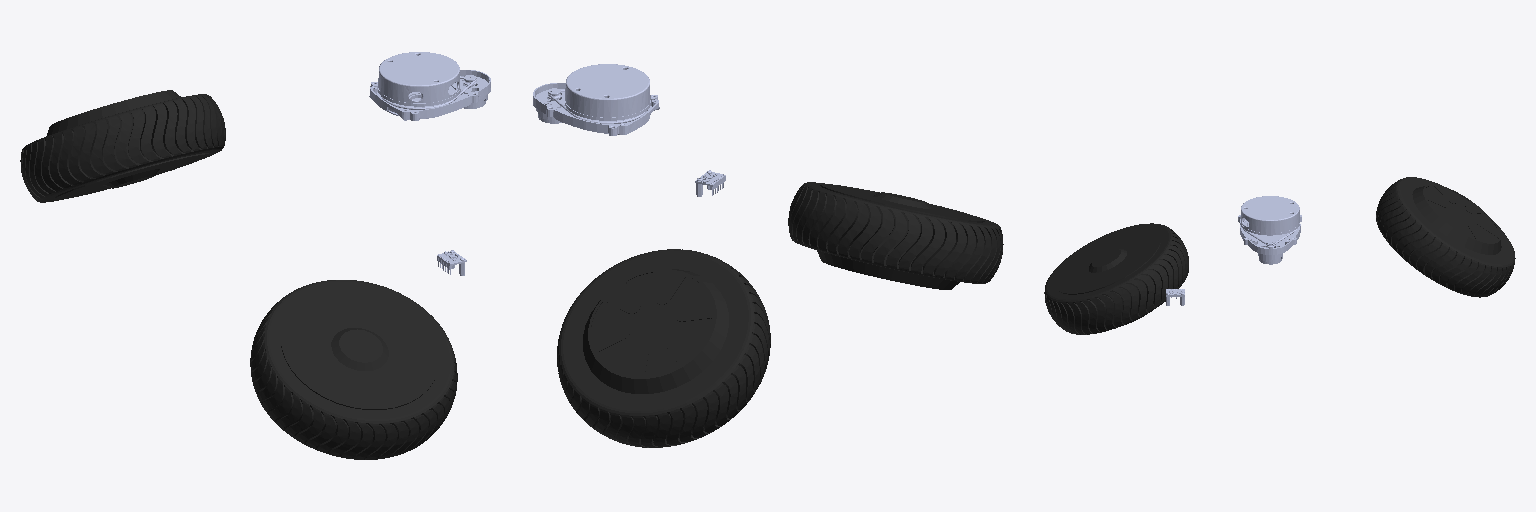
The robot description file, URDF, robot "urdf3":
<?xml version="1.0" encoding="utf-8"?>
<!-- This URDF was automatically created by SolidWorks to URDF Exporter! Originally created by [author] ([email redacted]) 
     Commit Version: 1.6.0-4-g7f85cfe  Build Version: 1.6.7995.38578
     For more information, please see http://wiki.ros.org/sw_urdf_exporter -->
<robot
  name="urdf3">
  <link
    name="base_link">
    <inertial>
      <origin
        xyz="0.0442825897090094 -0.0071218303020959 0.0468904111249884"
        rpy="0 0 0" />
      <mass
        value="7.24083590160844" />
      <inertia
        ixx="0.0234333185987911"
        ixy="-0.000228866626835989"
        ixz="0.000468094989719994"
        iyy="0.0514787313028361"
        iyz="-5.4523230025468E-07"
        izz="0.0674713703809717" />
    </inertial>
    <visual>
      <origin
        xyz="0 0 0"
        rpy="0 0 0" />
      <geometry>
        <mesh
          filename="package://urdf3/meshes/base_link.STL" />
      </geometry>
      <material
        name="">
        <color
          rgba="0.752941176470588 0.752941176470588 0.752941176470588 1" />
      </material>
    </visual>
    <collision>
      <origin
        xyz="0 0 0"
        rpy="0 0 0" />
      <geometry>
        <mesh
          filename="package://urdf3/meshes/base_link.STL" />
      </geometry>
    </collision>
  </link>
  <link
    name="lidar_link">
    <inertial>
      <origin
        xyz="0.0148383171367844 0.000447683430769286 -0.0211536208200519"
        rpy="0 0 0" />
      <mass
        value="0.0312409127404861" />
      <inertia
        ixx="8.88026370808522E-06"
        ixy="-1.77664494264139E-07"
        ixz="1.13027679908938E-07"
        iyy="1.44910018203743E-05"
        iyz="3.46076114959359E-08"
        izz="2.25289099518335E-05" />
    </inertial>
    <visual>
      <origin
        xyz="0 0 0"
        rpy="0 0 0" />
      <geometry>
        <mesh
          filename="package://urdf3/meshes/lidar_link.STL" />
      </geometry>
      <material
        name="">
        <color
          rgba="0.792156862745098 0.819607843137255 0.933333333333333 1" />
      </material>
    </visual>
    <collision>
      <origin
        xyz="0 0 0"
        rpy="0 0 0" />
      <geometry>
        <mesh
          filename="package://urdf3/meshes/lidar_link.STL" />
      </geometry>
    </collision>
  </link>
  <joint
    name="lidar"
    type="fixed">
    <origin
      xyz="0.155727946311183 0.00119138551322162 0.14609999999979"
      rpy="0 0 0" />
    <parent
      link="base_link" />
    <child
      link="lidar_link" />
    <axis
      xyz="0 0 0" />
  </joint>
  <link
    name="imu_link">
    <inertial>
      <origin
        xyz="-0.000128980115823185 -0.000191495598159785 -0.00384070508905809"
        rpy="0 0 0" />
      <mass
        value="0.000999898118986824" />
      <inertia
        ixx="2.50447716935414E-08"
        ixy="1.03965056246914E-10"
        ixz="-2.68560481614487E-14"
        iyy="1.24513535508529E-08"
        iyz="-1.18565423382753E-14"
        izz="3.06376353115898E-08" />
    </inertial>
    <visual>
      <origin
        xyz="0 0 0"
        rpy="0 0 0" />
      <geometry>
        <mesh
          filename="package://urdf3/meshes/imu_link.STL" />
      </geometry>
      <material
        name="">
        <color
          rgba="0.792156862745098 0.819607843137255 0.933333333333333 1" />
      </material>
    </visual>
    <collision>
      <origin
        xyz="0 0 0"
        rpy="0 0 0" />
      <geometry>
        <mesh
          filename="package://urdf3/meshes/imu_link.STL" />
      </geometry>
    </collision>
  </link>
  <joint
    name="imu"
    type="fixed">
    <origin
      xyz="0.126490153720713 -0.100459462377462 0.0330199999990641"
      rpy="0 0 0" />
    <parent
      link="base_link" />
    <child
      link="imu_link" />
    <axis
      xyz="0 0 0" />
  </joint>
  <link
    name="right_wheel_link">
    <inertial>
      <origin
        xyz="0.000243587829777958 -0.0295000990455644 8.01157473695469E-11"
        rpy="1 0 0" />
      <mass
        value="0.981706650902444" />
      <inertia
        ixx="0.0016529958590619"
        ixy="-1.01208406970329E-05"
        ixz="1.94991242741294E-09"
        iyy="0.00287861061054269"
        iyz="1.72664473467692E-11"
        izz="0.00165290525855946" />
    </inertial>
    <visual>
      <origin
        xyz="0 0 0"
        rpy="1 0 0" />
      <geometry>
        <mesh
          filename="package://urdf3/meshes/right_wheel_link.STL" />
      </geometry>
      <material
        name="">
        <color
          rgba="0.2 0.2 0.2 1" />
      </material>
    </visual>
    <collision>
      <origin
        xyz="0 0 0"
        rpy="1 0 0" />
      <geometry>
        <mesh
          filename="package://urdf3/meshes/right_wheel_link.STL" />
      </geometry>
    </collision>
  </link>
  <joint
    name="right_wheel"
    type="continuous">
    <origin
      xyz="0.00163679036643538 -0.174956642830885 0.0149999999997888"
      rpy="1 0 0" />
    <parent
      link="base_link" />
    <child
      link="right_wheel_link" />
    <axis
      xyz="-0.00825691107326283 0.999965911128739 0" />
  </joint>
  <link
    name="left_wheel_link">
    <inertial>
      <origin
        xyz="-0.000243587829778402 0.0295000990455643 8.01156918583956E-11"
        rpy="1 0 0" />
      <mass
        value="0.981706650902437" />
      <inertia
        ixx="0.0016529958291508"
        ixy="-1.01208409419746E-05"
        ixz="-2.00288369752032E-09"
        iyy="0.00287861061054065"
        iyz="-1.77037226319724E-11"
        izz="0.00165290528847253" />
    </inertial>
    <visual>
      <origin
        xyz="0 0 0"
        rpy="1 0 0" />
      <geometry>
        <mesh
          filename="package://urdf3/meshes/left_wheel_link.STL" />
      </geometry>
      <material
        name="">
        <color
          rgba="0.2 0.2 0.2 1" />
      </material>
    </visual>
    <collision>
      <origin
        xyz="0 0 0"
        rpy="1 0 0" />
      <geometry>
        <mesh
          filename="package://urdf3/meshes/left_wheel_link.STL" />
      </geometry>
    </collision>
  </link>
  <joint
    name="left_wheel"
    type="continuous">
    <origin
      xyz="-0.00125312850920878 0.175031426064171 0.0149999999997889"
      rpy="0 0 0" />
    <parent
      link="base_link" />
    <child
      link="left_wheel_link" />
    <axis
      xyz="0.00825691107326281 -0.999965911128739 0" />
  </joint>
</robot>

--- Render facts (derived) ---
Views: 3 orthographic renders of the robot side by side, from view 1: azimuth 30°, elevation 25°; view 2: azimuth 150°, elevation 25°; view 3: azimuth 270°, elevation 25°.
Model urdf3 with 5 links and 4 joints (2 continuous, 2 fixed), rooted at base_link, posed every joint at zero.
Links seen in each view (by area): view 1: right_wheel_link, left_wheel_link, lidar_link; view 2: left_wheel_link, right_wheel_link, lidar_link; view 3: right_wheel_link, left_wheel_link, lidar_link.
Boxes of the visible links, x1,y1,x2,y2 form: right_wheel_link: [250, 280, 457, 459]; left_wheel_link: [20, 90, 225, 202]; lidar_link: [369, 52, 490, 120]; left_wheel_link: [557, 249, 770, 447]; right_wheel_link: [788, 182, 1003, 289]; lidar_link: [533, 64, 659, 135]; right_wheel_link: [1044, 223, 1188, 334]; left_wheel_link: [1376, 177, 1515, 297]; lidar_link: [1238, 196, 1301, 264].
Size in the robot's own frame: 0.3006 by 0.5064 by 0.207 metres.
4 mesh visuals loaded from 5 distinct referenced files (4 binary STL); not drawn: 1 (reference not matched to a file when rendering).